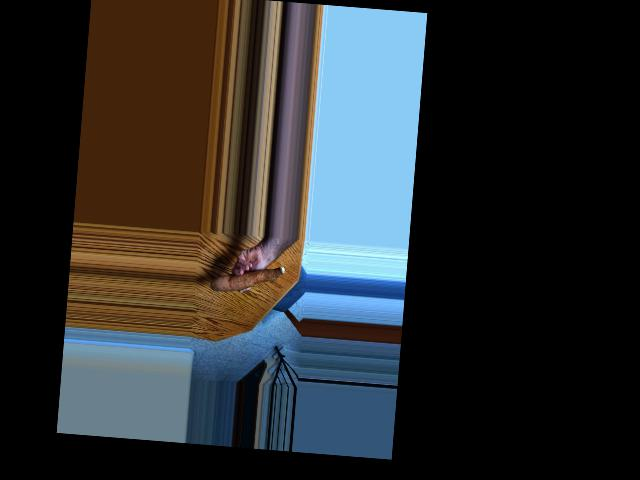sweet_potato: (212, 254, 285, 300)
